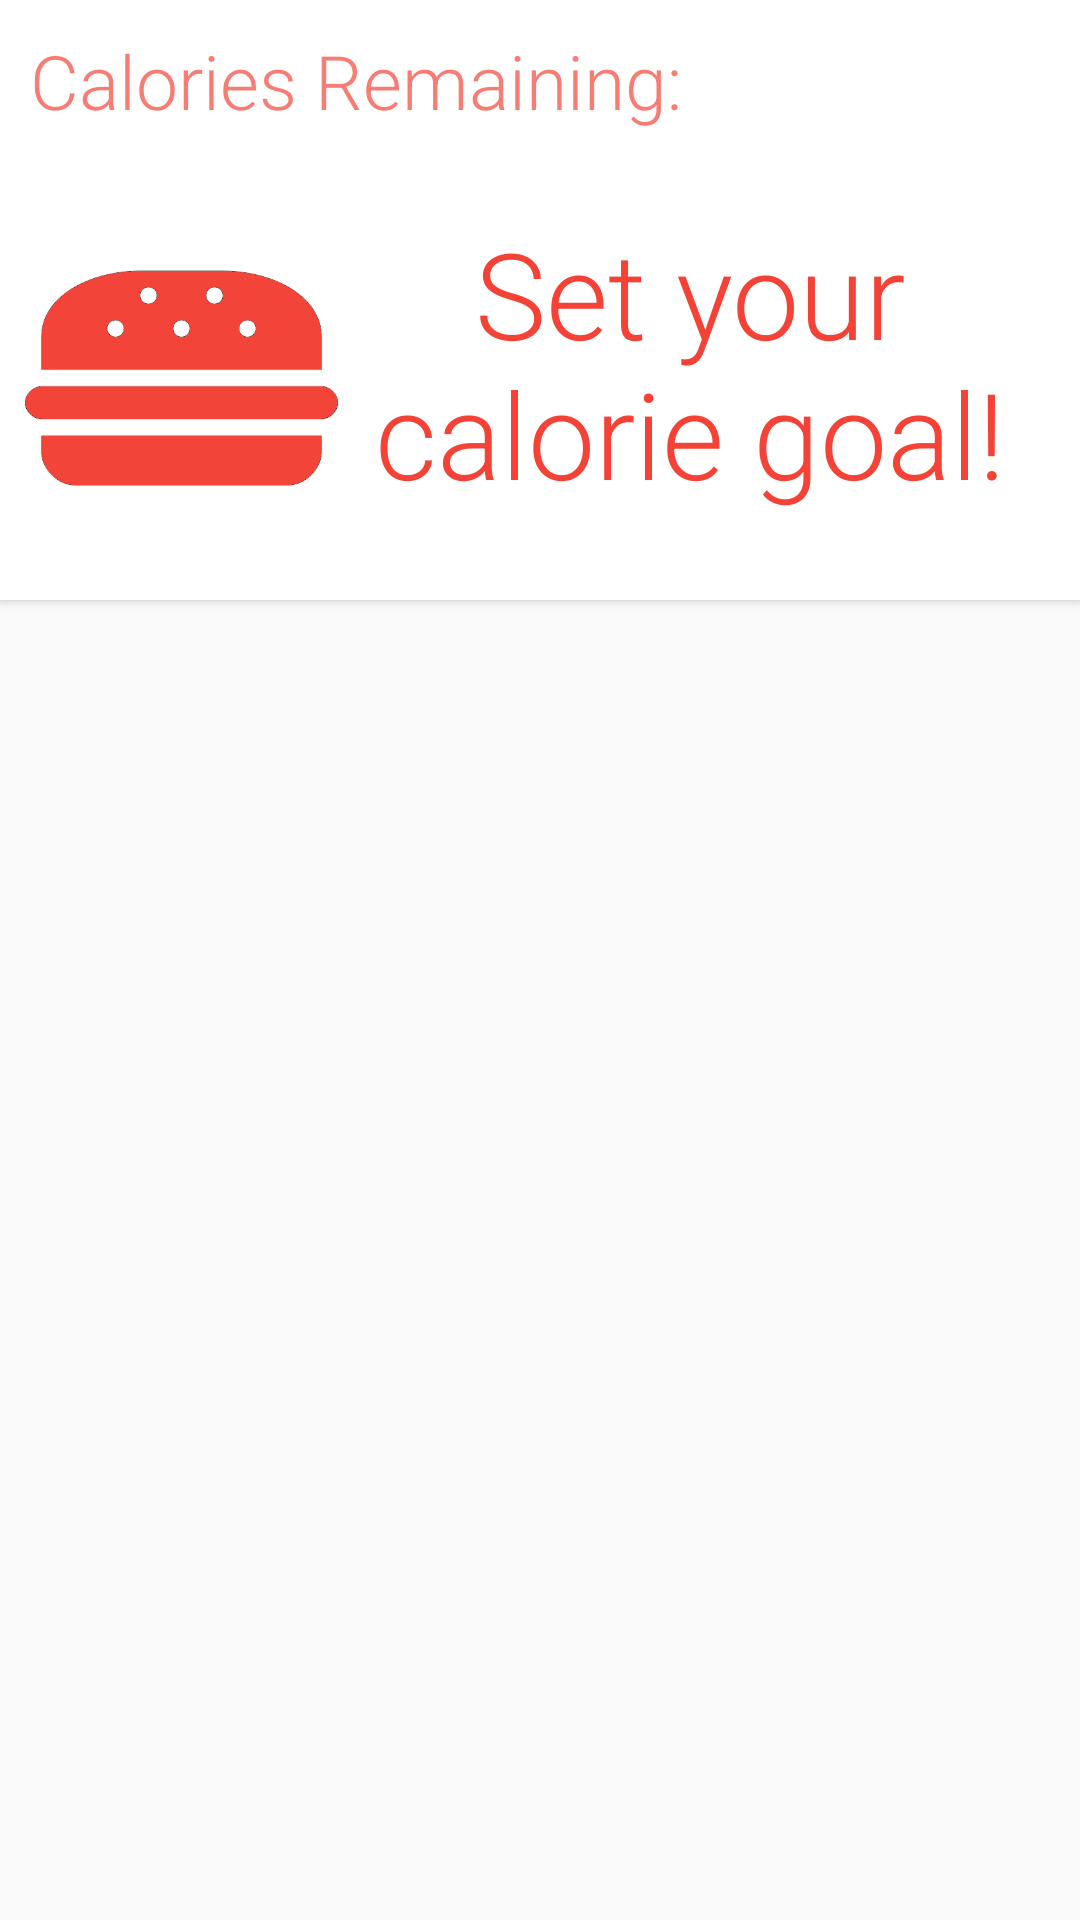

Icon bounding boxes for this 1080px×1920px phone screenshot, format (x1, y1, x2, y2):
burger: (25, 270, 338, 486)
